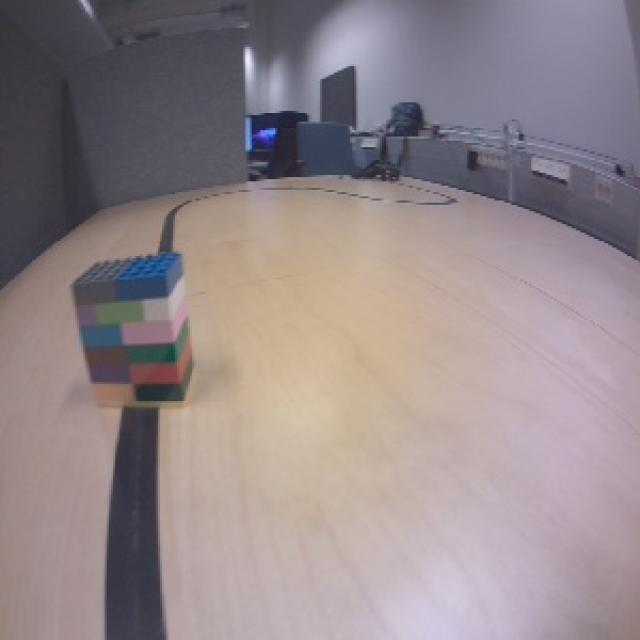obstacle: (67, 248, 200, 410)
